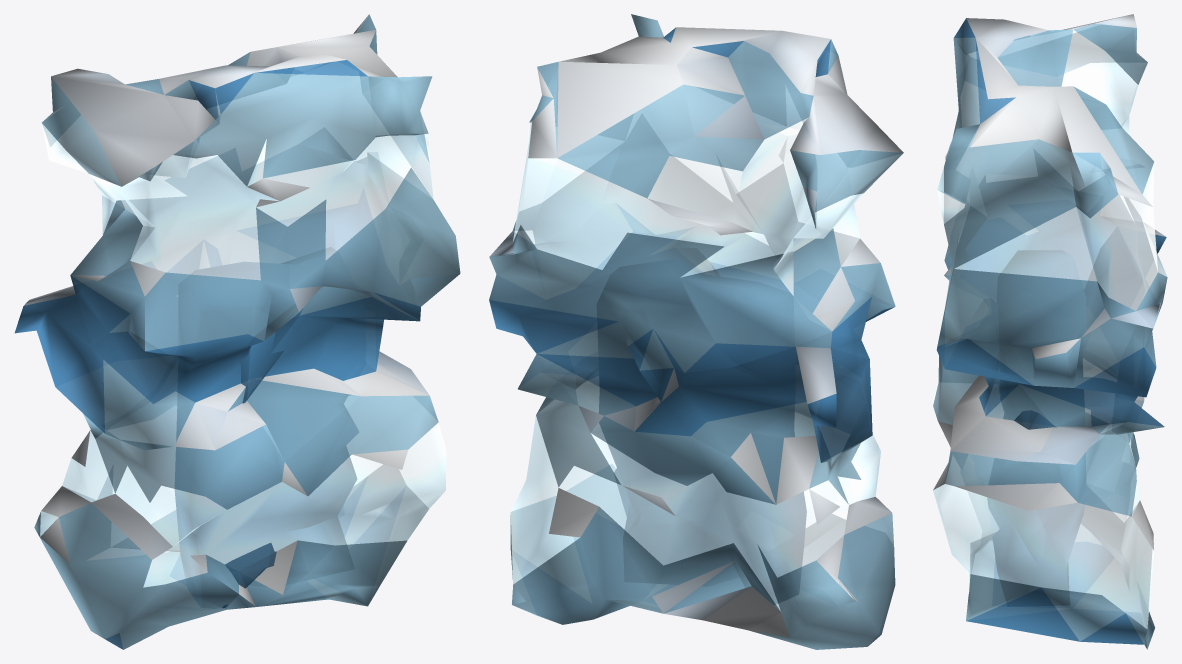
Rendered from frost_ice_cliff_b_lod2.glb.
3 views of the same model, side by side, from view 1: azimuth 30°, elevation 25°; view 2: azimuth 150°, elevation 25°; view 3: azimuth 270°, elevation 25° (orthographic). The views are drawn at different scales.
Parts seen in each view (by area): view 1: frost_ice_cliff_b.001; view 2: frost_ice_cliff_b.001; view 3: frost_ice_cliff_b.001.
Boxes of the visible parts, x1,y1,x2,y2 form: frost_ice_cliff_b.001: (14,14,460,649); frost_ice_cliff_b.001: (489,14,903,649); frost_ice_cliff_b.001: (932,14,1167,649).
Bounding box in the file's own units: 11.18 × 17.16 × 6.76.
